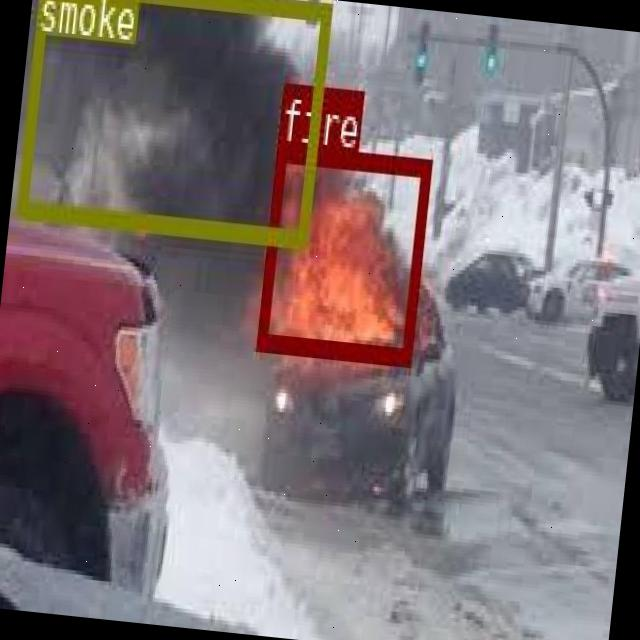fire: (255, 142, 430, 360)
smoke: (15, 0, 331, 245)
